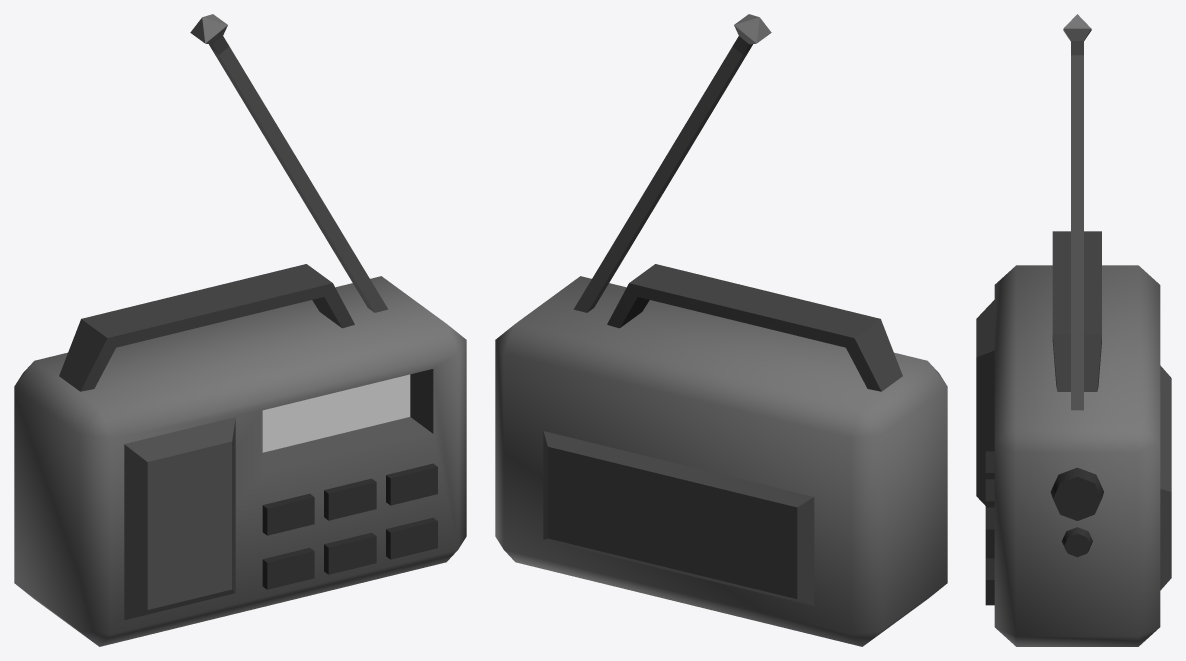
The model's file is boombox.fbx.
3 renders of one model, left to right at view 1: azimuth 30°, elevation 25°; view 2: azimuth 150°, elevation 25°; view 3: azimuth 270°, elevation 25°, orthographic. The views are drawn at different scales.
Parts seen in each view (by area): view 1: Boombox; view 2: Boombox; view 3: Boombox.
Part boxes in pixels (x1,y1,x2,y2): Boombox: [14, 14, 466, 646]; Boombox: [495, 14, 947, 646]; Boombox: [976, 14, 1171, 646].
Size of the model in its own units: 0.4794 by 0.6511 by 0.2151.
